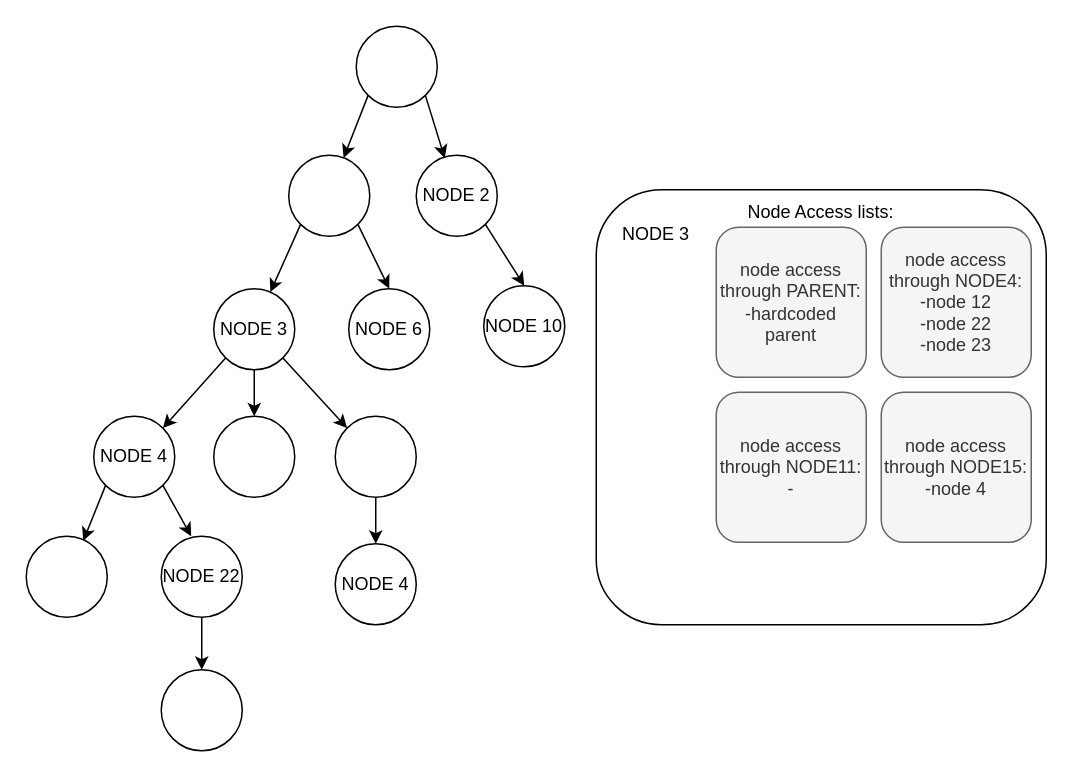
The diagram is 1073 pixels wide and 777 high, and some of its shapes have lost their labels. The centre of each missing label's shape, as x and y in pixels:
HP: (x=396, y=66)
NODE 1: (x=328, y=195)
NODE 11: (x=253, y=456)
NODE 12: (x=66, y=576)
NODE 15: (x=375, y=456)
NODE 23: (x=201, y=709)
